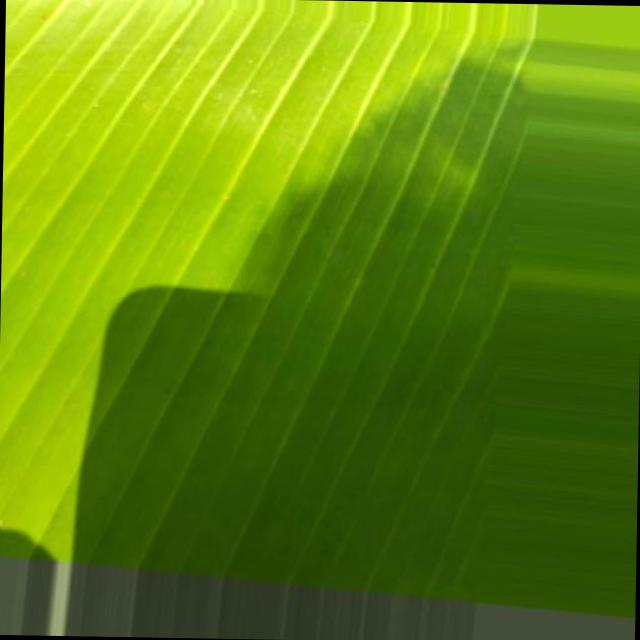Banana_Healthy: (11, 10, 608, 584)
